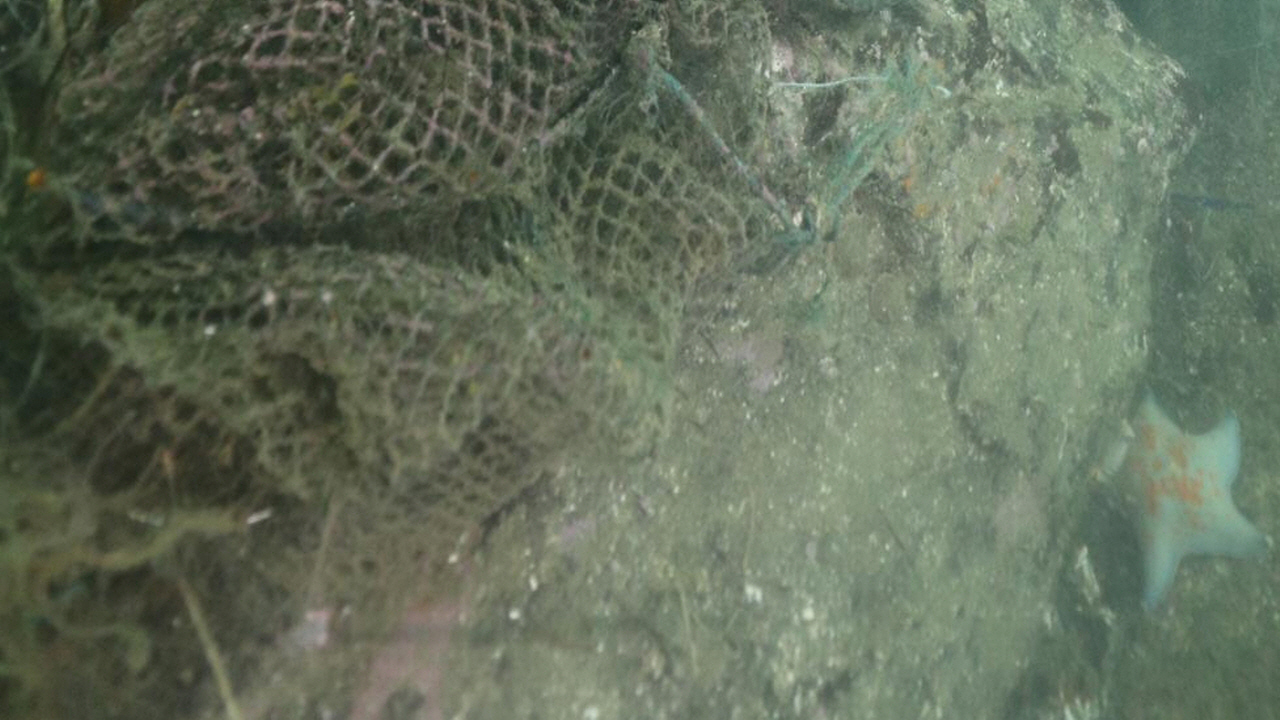fish net: (0, 1, 773, 593)
